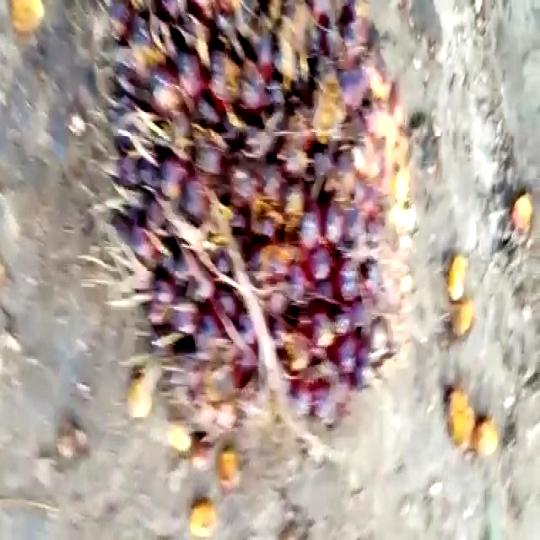kurang masak: (85, 0, 416, 440)
